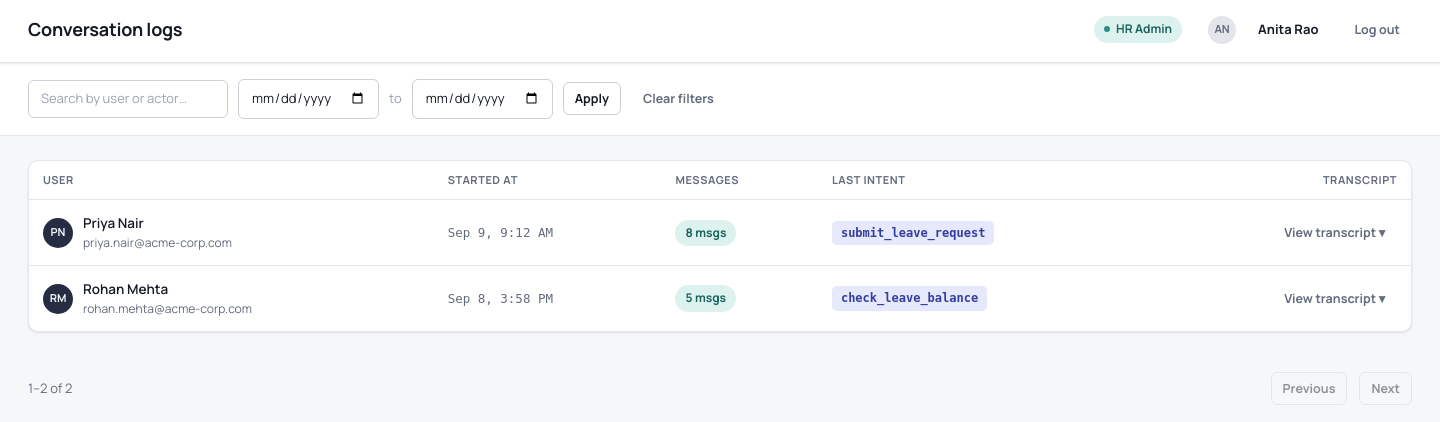
Test case: Conversation Logs page (slice-11) › filters by actor and date range
Expected: the text "Priya Nair" is shown, left=83, top=214, right=144, bottom=232
Type "Priya" into the field named "Search by actor". click: (128, 99)
box: left=28, top=80, right=228, bottom=118
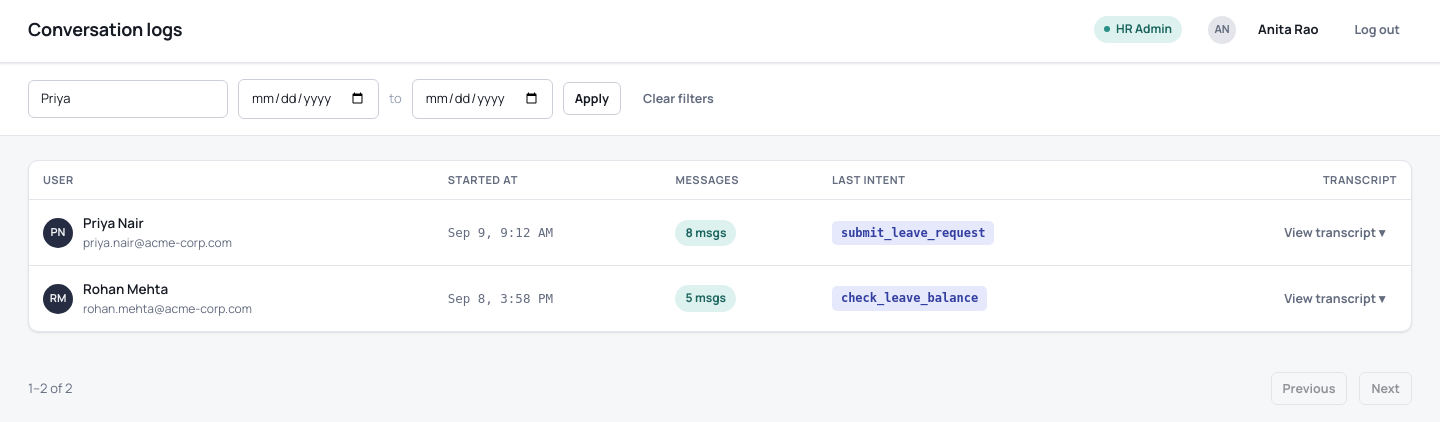
Type "2026-09-01" into the date field named "From date". click: (308, 99)
box: left=238, top=79, right=379, bottom=119
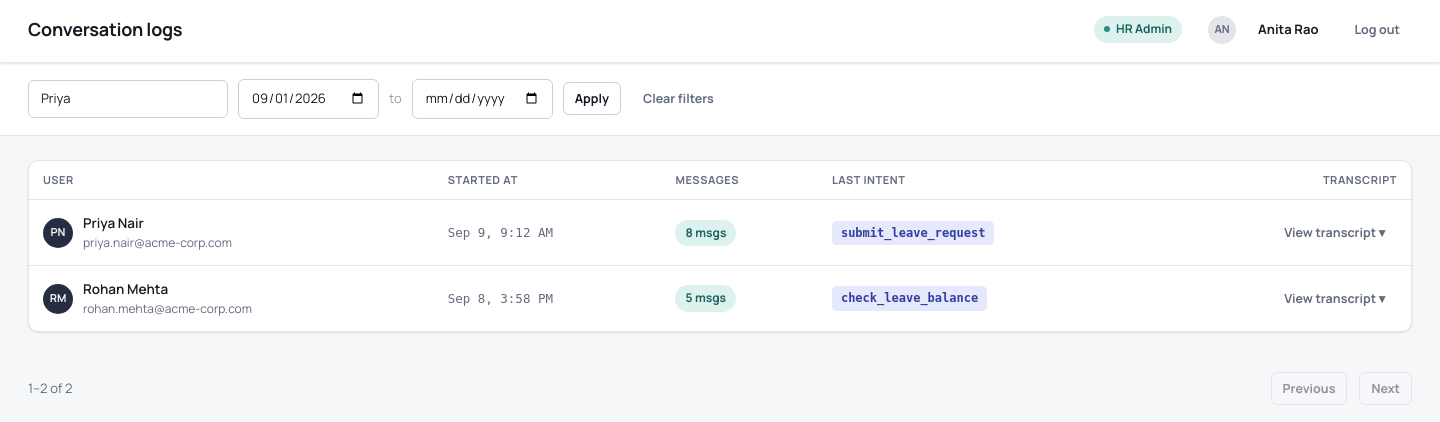
Type "2026-09-10" into the date field named "To date". click: (482, 99)
box: left=412, top=79, right=553, bottom=119
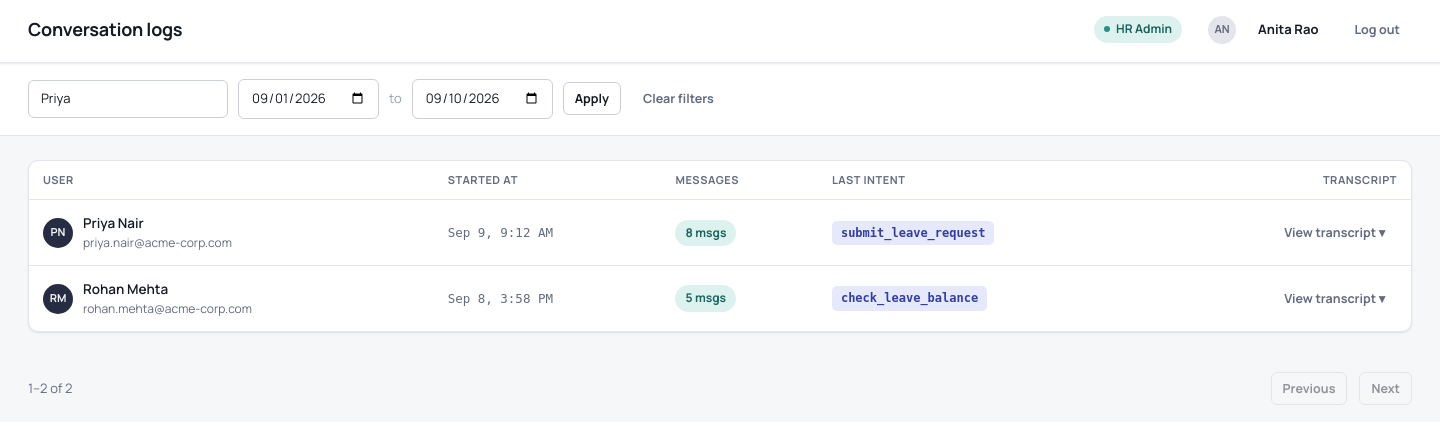
Click the button "Apply". click: click(592, 99)
box: left=563, top=82, right=621, bottom=115
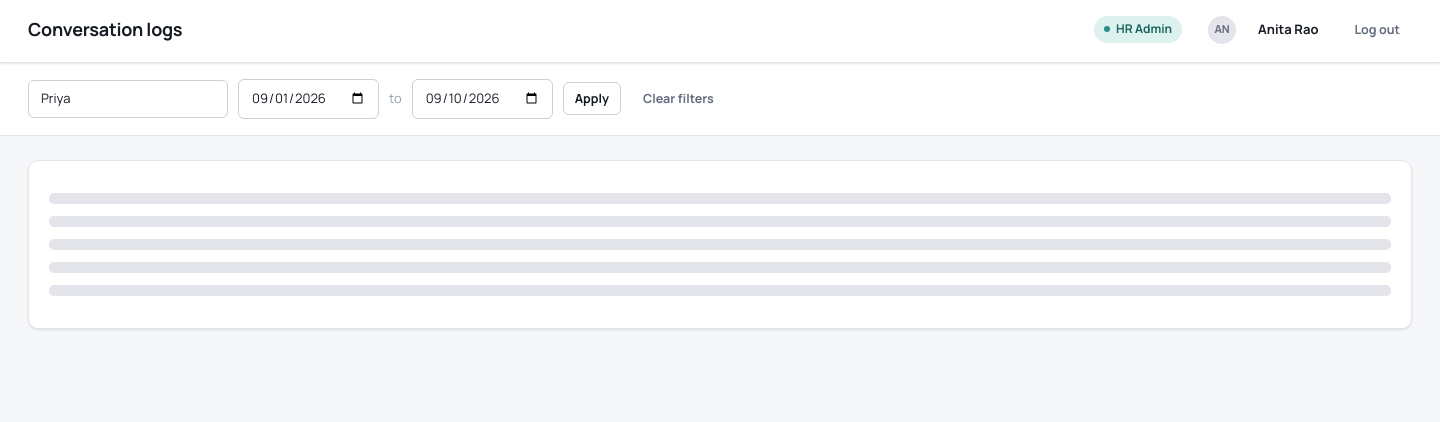
Test clear filters
Click the button "Clear filters". click: click(678, 99)
box: left=631, top=82, right=726, bottom=115
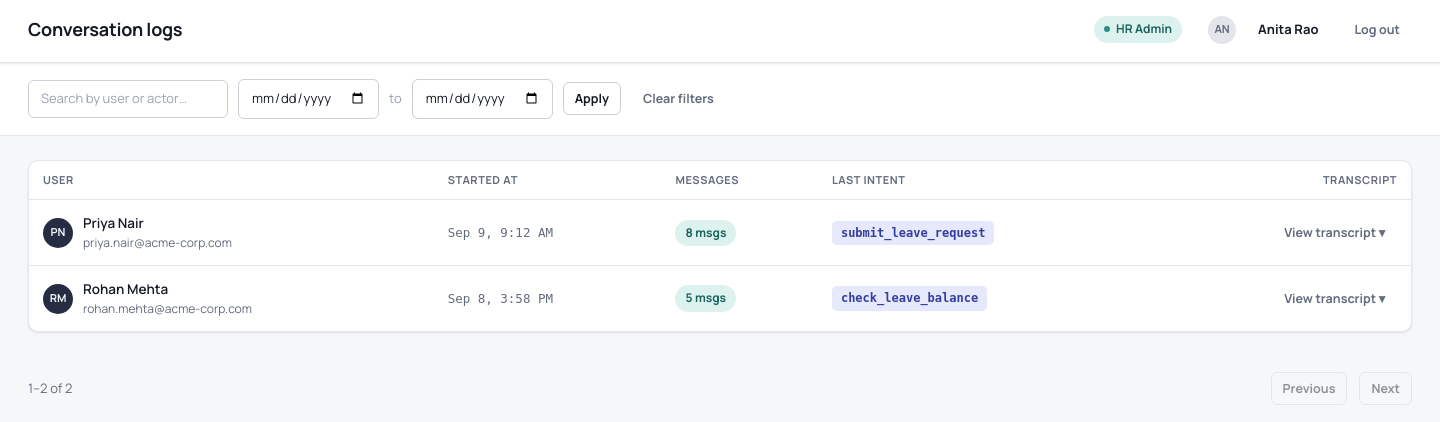
Expected: the field named "Search by actor" is empty, left=28, top=80, right=228, bottom=118
Expected: the date field named "From date" is empty, left=238, top=79, right=379, bottom=119
Expected: the date field named "To date" is empty, left=412, top=79, right=553, bottom=119
